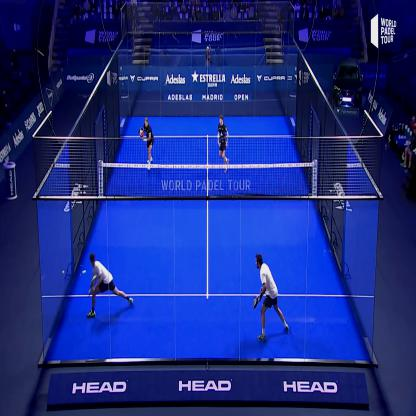ball: (80, 265, 88, 277)
